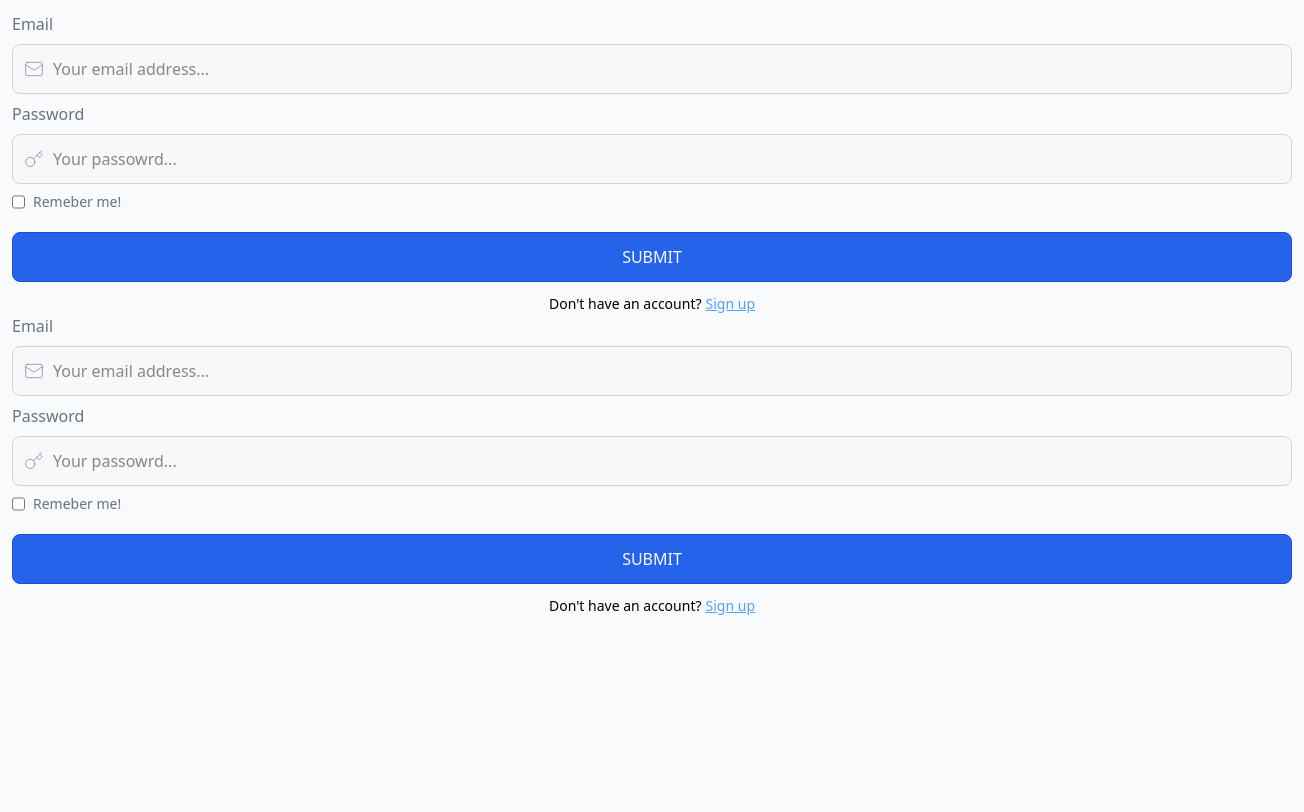
it: Login Form › check validation › password validation
Type "abc@gmail.com" into the field labelled "Email" at (652, 69), box [12,44,1292,94]
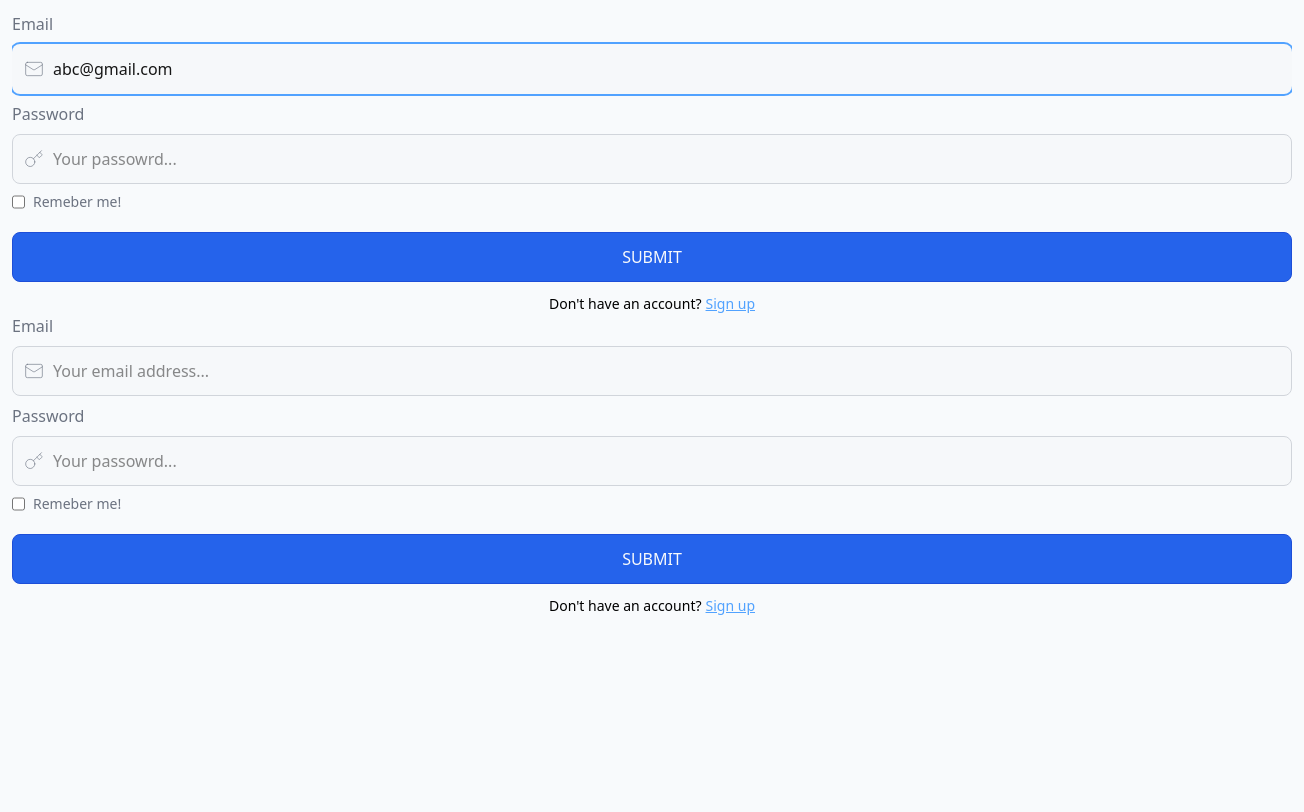
Click the 1st button "SUBMIT" at (652, 257), box [12,232,1292,282]
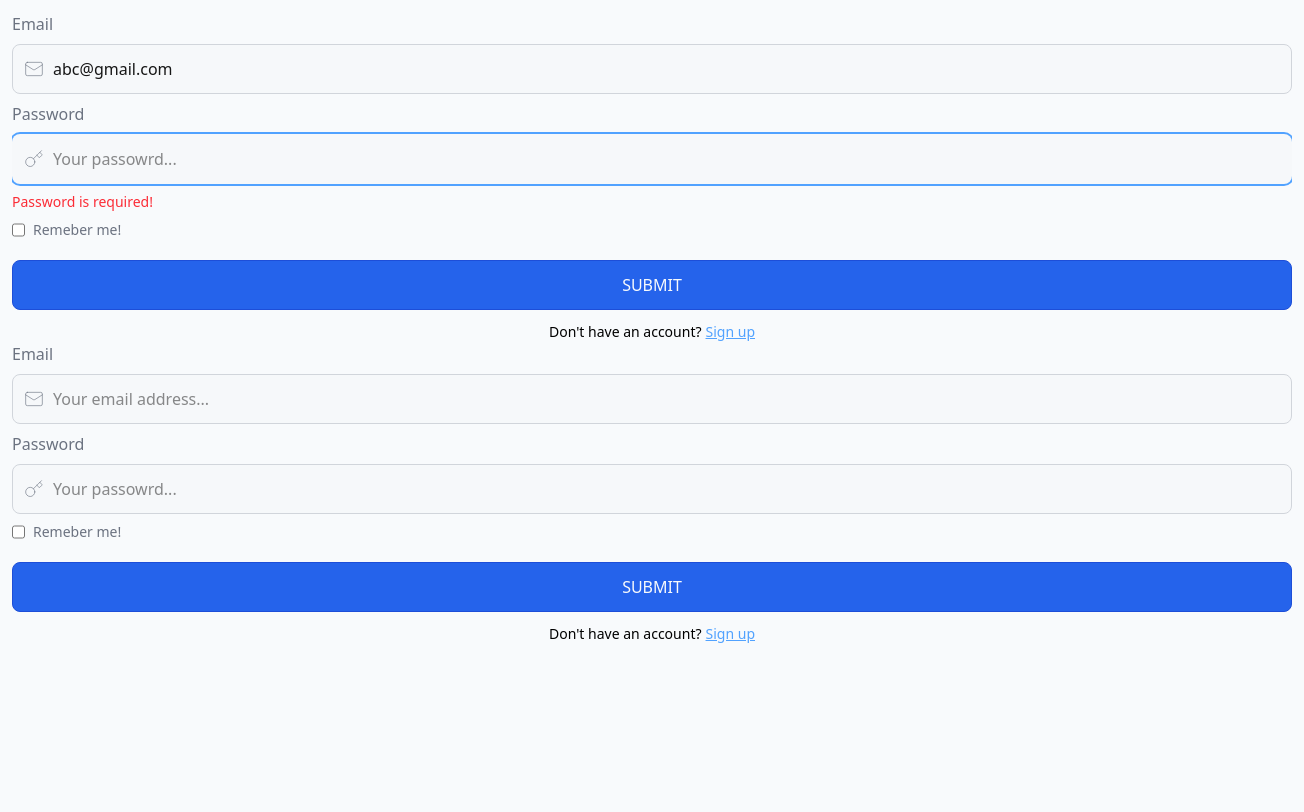
expect the text "Password is required!" is shown: met, box [12,192,153,211]
